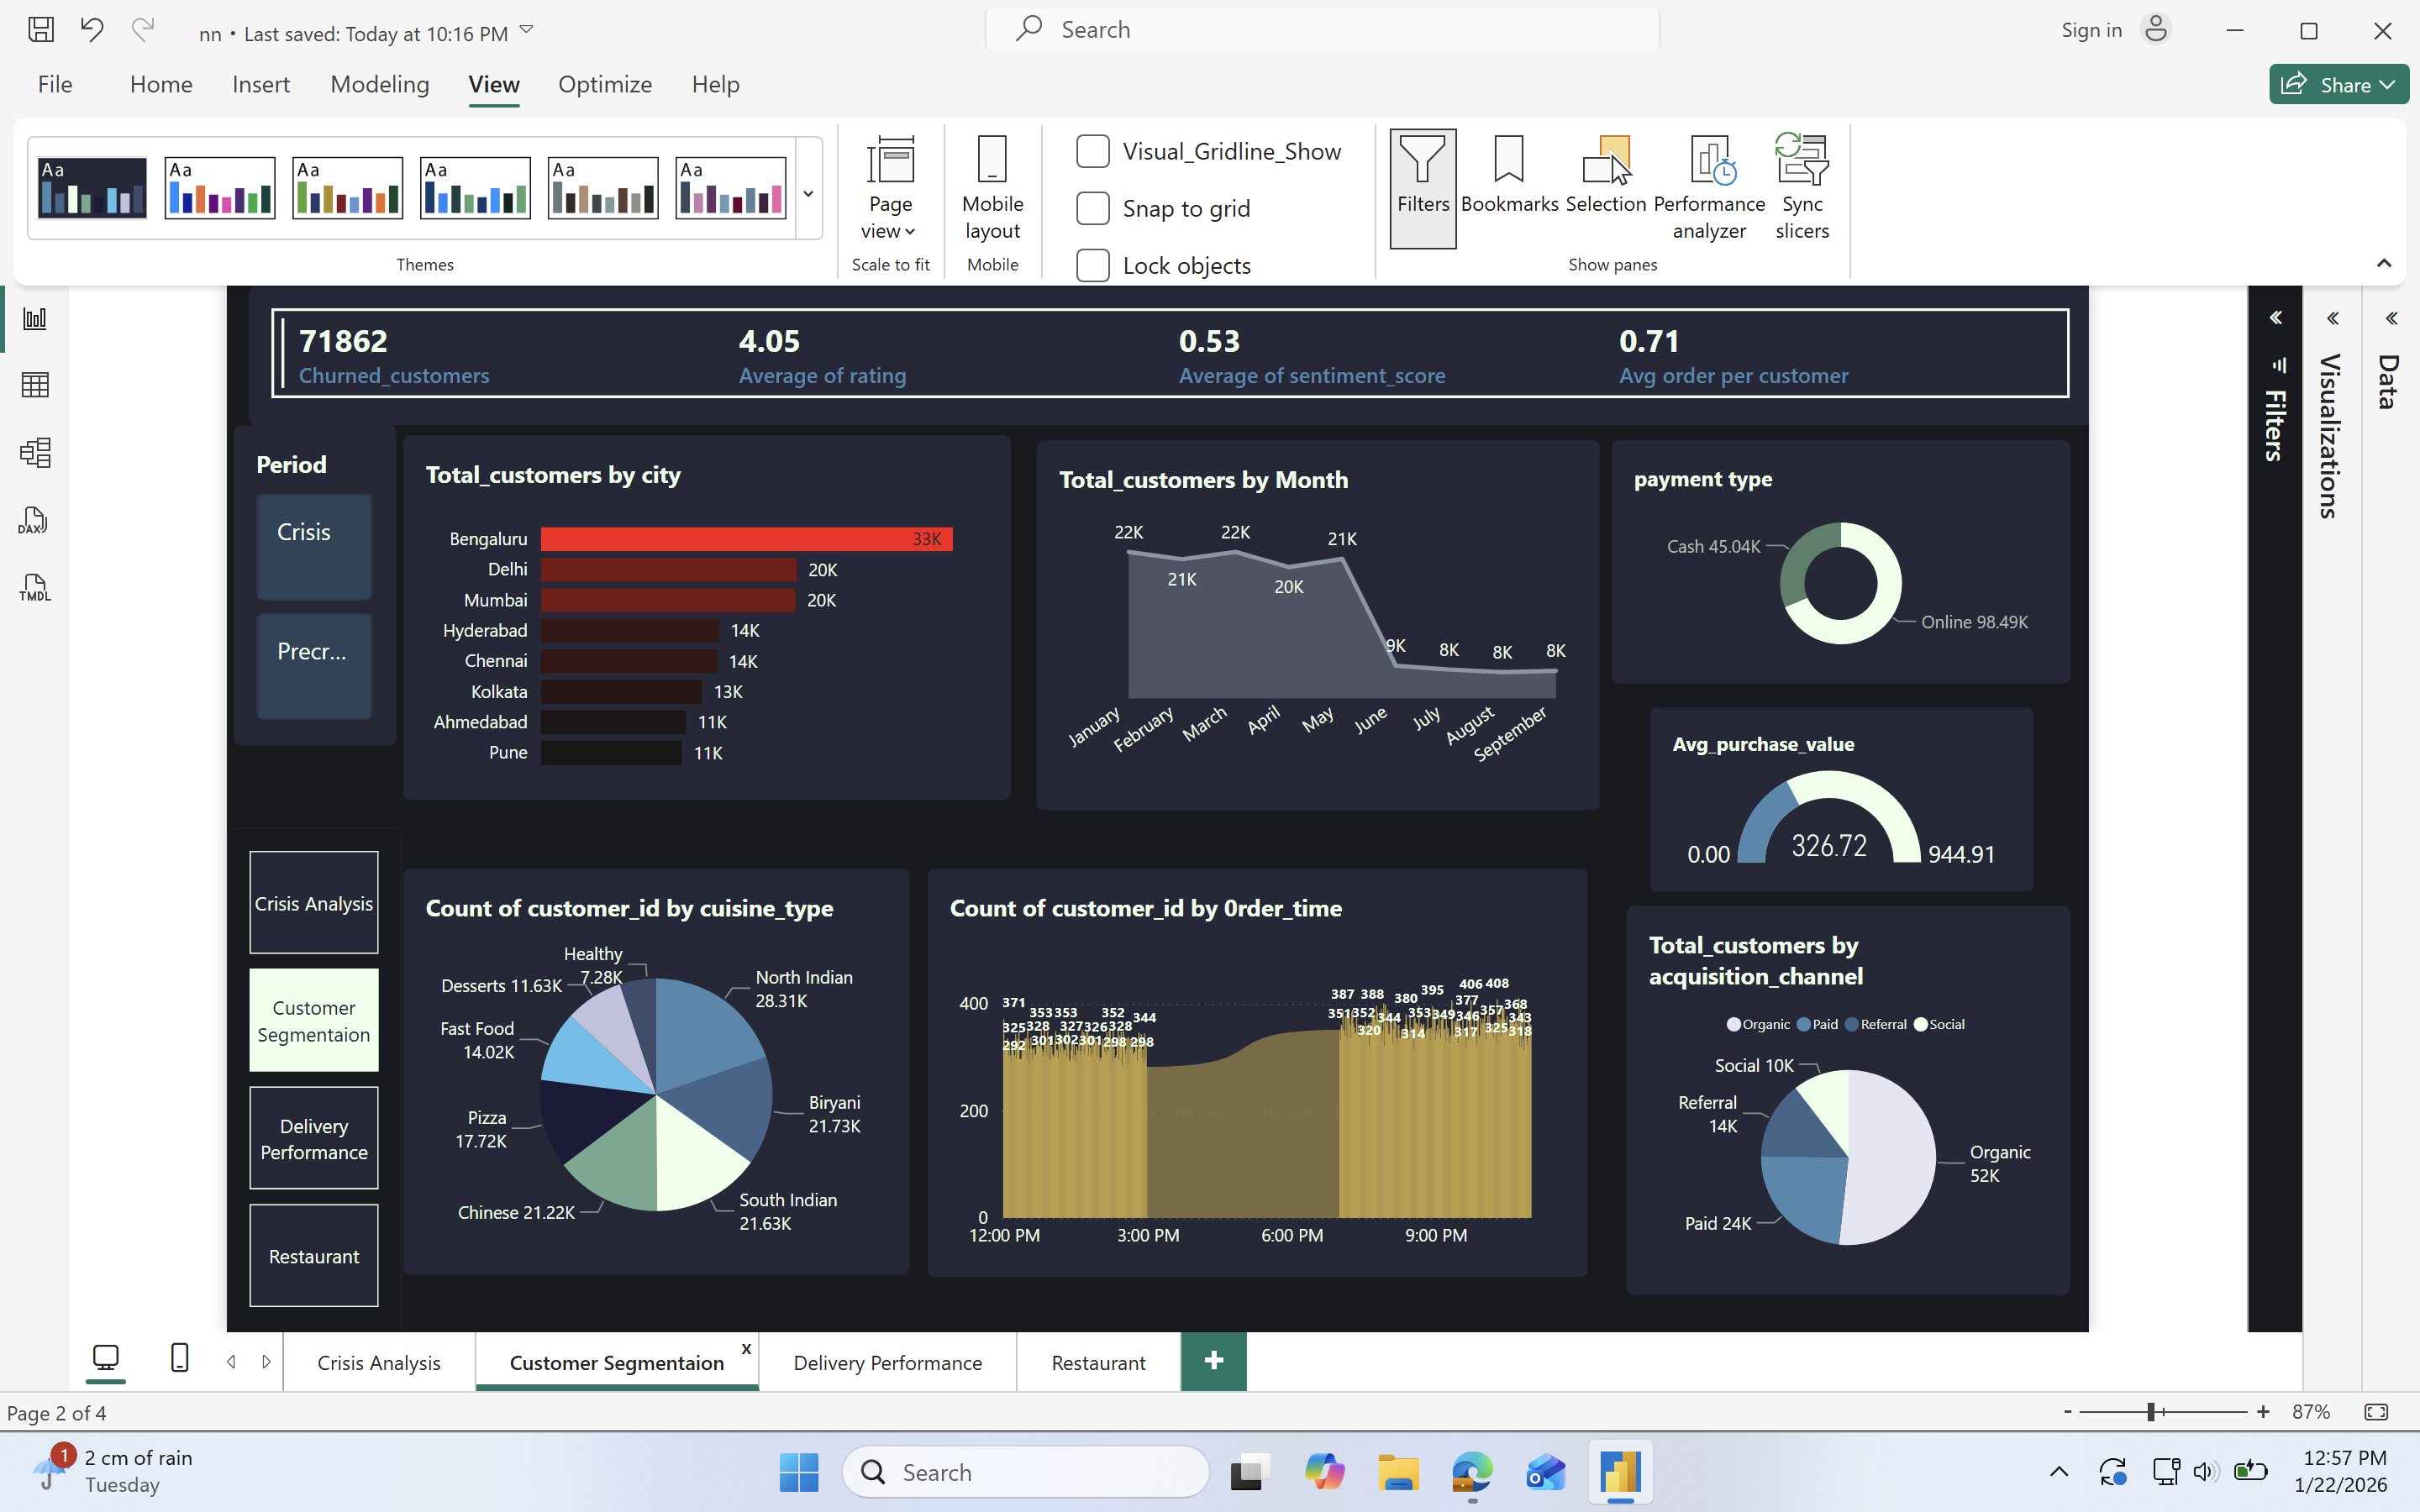

Layout of this report page (visuals, bound fields, positions):
{"tool":"powerbi","page":{"name":"Customer Segmentaion","canvas":[1280,720],"ordinal":1},"visuals":[{"type":"barChart","fields":{"Y":["dim_customer.Total_customers"],"Category":["dim_restaurant.city"]},"box":[121,102.6,418,251.1],"z":0},{"type":"areaChart","fields":{"Category":["orders.order_date.Variation.Date Hierarchy.Month"],"Y":["dim_customer.Total_customers"]},"box":[557,106.3,387.2,254.3],"z":1000},{"type":"donutChart","title":"payment type","fields":{"Category":["orders.Payment_type"],"Y":["CountNonNull(orders.customer_id)"]},"box":[952.3,106.3,315.5,167.6],"z":2000},{"type":"ribbonChart","fields":{"Category":["orders.0rder_time"],"Y":["CountNonNull(orders.customer_id)"]},"box":[481.9,401,454.2,280.8],"z":3000},{"type":"gauge","title":"Avg_purchase_value","fields":{"Y":["Avg(orders.subtotal_amount)"],"MinValue":["Min(orders.total_bill)"],"MaxValue":["Max(orders.total_bill)"]},"box":[978.9,290.1,263.5,127.1],"z":4000},{"type":"pieChart","fields":{"Category":["dim_customer.acquisition_channel"],"Y":["dim_customer.Total_customers"]},"box":[962.7,426.5,305.1,268.1],"z":5000},{"type":"pieChart","fields":{"Category":["dim_restaurant.cuisine_type"],"Y":["CountNonNull(orders.customer_id)"]},"box":[121.3,401,347.9,279.7],"z":6000},{"type":"multiRowCard","fields":{"Values":["dim_customer.Churned_customers","fact_ratings.rating","Avg(fact_ratings.sentiment_score)","dim_customer.orders_er"]},"box":[15,0,1267.8,95.9],"z":7000},{"type":"pageNavigator","box":[0,373.5,120.6,347.7],"z":8000},{"type":"advancedSlicerVisual","fields":{"Values":["orders.Period"]},"box":[4.6,96.5,111.8,220.5],"z":9000}]}

Visuals, with their boxes on the page's 1280x720 design canvas (x1, y1, x2, y2). These are canvas units, not pixel positions in the 2420x1512 screenshot, which may show the page scaled, cropped or inside an application window:
barChart - dim_customer.Total_customers x dim_restaurant.city: (121, 103, 539, 354)
areaChart - orders.order_date.Variation.Date Hierarchy.Month x dim_customer.Total_customers: (557, 106, 944, 361)
"payment type" donutChart: (952, 106, 1268, 274)
ribbonChart - orders.0rder_time x CountNonNull(orders.customer_id): (482, 401, 936, 682)
"Avg_purchase_value" gauge: (979, 290, 1242, 417)
pieChart - dim_customer.acquisition_channel x dim_customer.Total_customers: (963, 426, 1268, 695)
pieChart - dim_restaurant.cuisine_type x CountNonNull(orders.customer_id): (121, 401, 469, 681)
multiRowCard - dim_customer.Churned_customers x fact_ratings.rating: (15, 0, 1283, 96)
pageNavigator: (0, 374, 121, 721)
advancedSlicerVisual - orders.Period: (5, 96, 116, 317)
